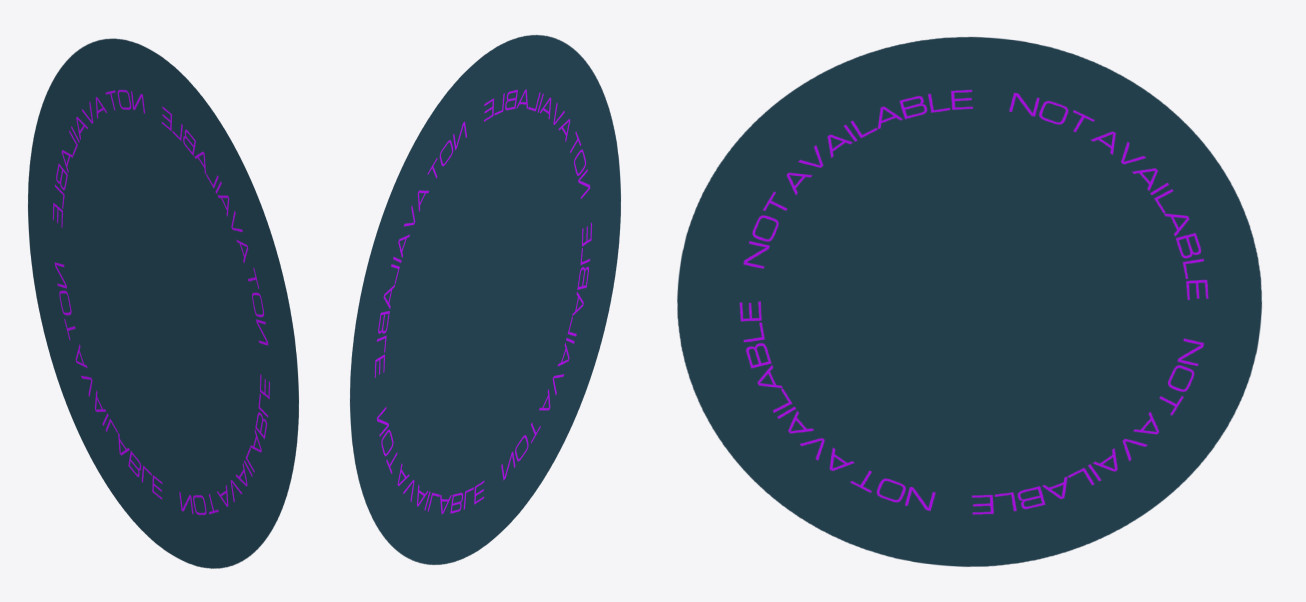
The model's file is medallion_tremplate.glb.
The picture shows the model from 3 angles, left to right: view 1: azimuth 30°, elevation 25°; view 2: azimuth 150°, elevation 25°; view 3: azimuth 270°, elevation 25°; orthographic projection. The views are drawn at different scales.
Parts seen in each view (by area): view 1: heads_title; view 2: heads_title; view 3: heads_title.
Boxes of the visible parts, box(x1,y1,x2,y2) form: heads_title: box(28, 38, 298, 568); heads_title: box(350, 35, 620, 564); heads_title: box(677, 37, 1261, 566).
Bounding box in the file's own units: 1.14e-08 × 0.1 × 0.1.
Materials: 1 (1 with a texture image).
